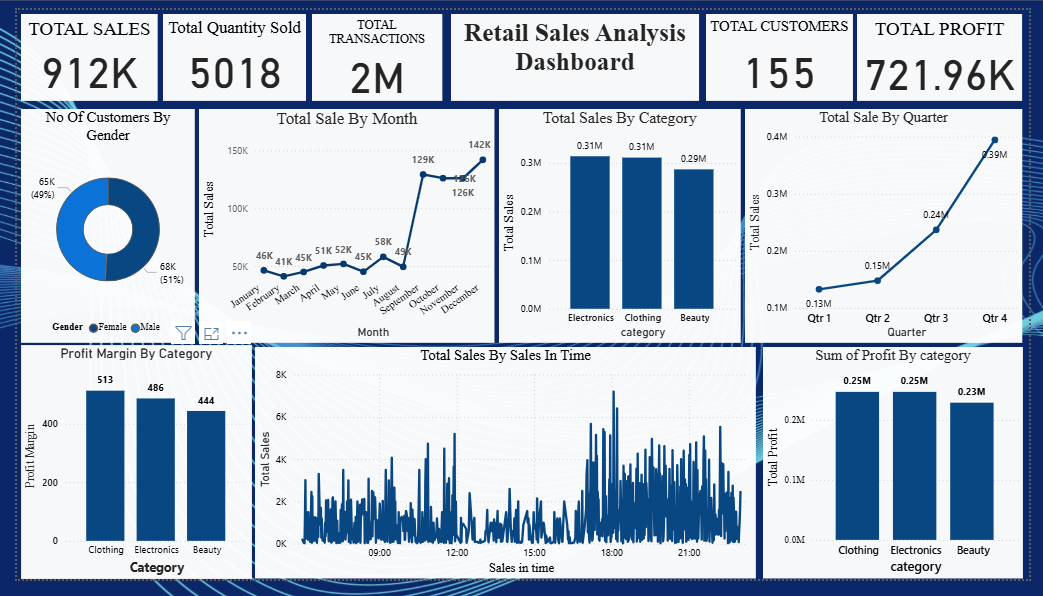

What the dashboard file says about the page in this screenshot:
{"tool":"powerbi","page":{"name":"Page 1","canvas":[1280,720],"ordinal":0},"visuals":[{"type":"columnChart","title":"Total Sales By Category","fields":{"Category":["SQL - Retail Sales Analysis_utf.category"],"Y":["Sum(SQL - Retail Sales Analysis_utf.total_sale)"]},"box":[609.7,125.2,305.5,295.9],"z":0},{"type":"donutChart","title":"No Of Customers By Gender","fields":{"Category":["SQL - Retail Sales Analysis_utf.gender"],"Y":["Sum(SQL - Retail Sales Analysis_utf.customer_id)"]},"box":[5.5,125.2,220.2,295.9],"z":1000},{"type":"card","fields":{"Values":["Sum(SQL - Retail Sales Analysis_utf.total_sale)"]},"box":[5.5,8.3,173.4,107.4],"z":2000},{"type":"card","fields":{"Values":["Sum(SQL - Retail Sales Analysis_utf.quantiy)"]},"box":[184.4,8.3,181.7,107.4],"z":3000},{"type":"lineChart","title":"Total Sale By Quarter","fields":{"Y":["Sum(SQL - Retail Sales Analysis_utf.total_sale)"],"Category":["SQL - Retail Sales Analysis_utf.sale_date.Variation.Date Hierarchy.Quarter"]},"box":[922.2,125.2,351,295.9],"z":4000},{"type":"lineChart","title":"Total Sale By Month","fields":{"Category":["SQL - Retail Sales Analysis_utf.sale_date.Variation.Date Hierarchy.Month"],"Y":["Sum(SQL - Retail Sales Analysis_utf.total_sale)"]},"box":[229.8,125.2,374.4,295.9],"z":5000},{"type":"columnChart","title":"Profit Margin By Category","fields":{"Category":["SQL - Retail Sales Analysis_utf.category"],"Y":["Sum(SQL - Retail Sales Analysis_utf.Profit Margin)"]},"box":[5.5,423.9,291.8,295.9],"z":6000},{"type":"lineChart","title":"Total Sales By Sales In Time","fields":{"Y":["Sum(SQL - Retail Sales Analysis_utf.total_sale)"],"Category":["SQL - Retail Sales Analysis_utf.sale_time"]},"box":[301.4,426.7,634.5,293.2],"z":7000},{"type":"card","fields":{"Values":["Sum(SQL - Retail Sales Analysis_utf.transactions_id)"]},"box":[373,8.3,165.2,107.4],"z":8000},{"type":"card","fields":{"Values":["Count(SQL - Retail Sales Analysis_utf.customer_id)"]},"box":[872.6,5.5,185.8,110.1],"z":9000},{"type":"card","fields":{"Values":["Sum(SQL - Retail Sales Analysis_utf.Profit)"]},"box":[1063.9,5.5,209.2,110.1],"z":10000},{"type":"columnChart","title":"Sum of Profit By category","fields":{"Y":["Sum(SQL - Retail Sales Analysis_utf.Profit)"],"Category":["SQL - Retail Sales Analysis_utf.category"]},"box":[944.2,426.7,328.9,293.2],"z":11000},{"type":"textbox","box":[549.2,8.3,313.8,107.4],"z":11002}]}

Visuals, with their boxes in screenshot pixels (x1, y1, x2, y2), scaled from the page's 1280x720 canvas onto the 1043x596 screenshot:
"Total Sales By Category" columnChart: region(497, 104, 746, 349)
"No Of Customers By Gender" donutChart: region(4, 104, 184, 349)
card - Sum(SQL - Retail Sales Analysis_utf.total_sale): region(4, 7, 146, 96)
card - Sum(SQL - Retail Sales Analysis_utf.quantiy): region(150, 7, 298, 96)
"Total Sale By Quarter" lineChart: region(751, 104, 1037, 349)
"Total Sale By Month" lineChart: region(187, 104, 492, 349)
"Profit Margin By Category" columnChart: region(4, 351, 242, 595)
"Total Sales By Sales In Time" lineChart: region(246, 353, 763, 595)
card - Sum(SQL - Retail Sales Analysis_utf.transactions_id): region(304, 7, 439, 96)
card - Count(SQL - Retail Sales Analysis_utf.customer_id): region(711, 5, 862, 96)
card - Sum(SQL - Retail Sales Analysis_utf.Profit): region(867, 5, 1037, 96)
"Sum of Profit By category" columnChart: region(769, 353, 1037, 595)
textbox: region(448, 7, 703, 96)
